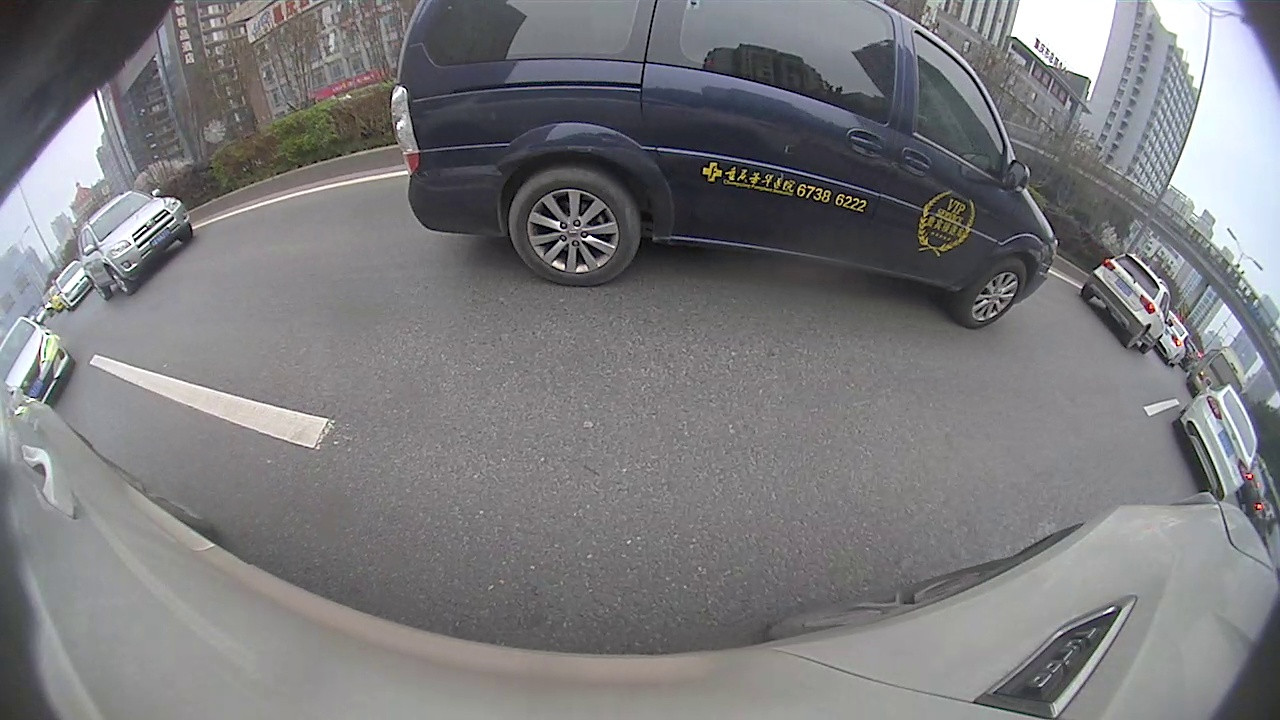car: (388, 3, 1058, 332), (77, 187, 194, 302), (1170, 381, 1261, 503), (1079, 253, 1172, 356)
front: (957, 260, 1033, 329), (105, 264, 130, 295)
rear: (505, 175, 641, 286)
